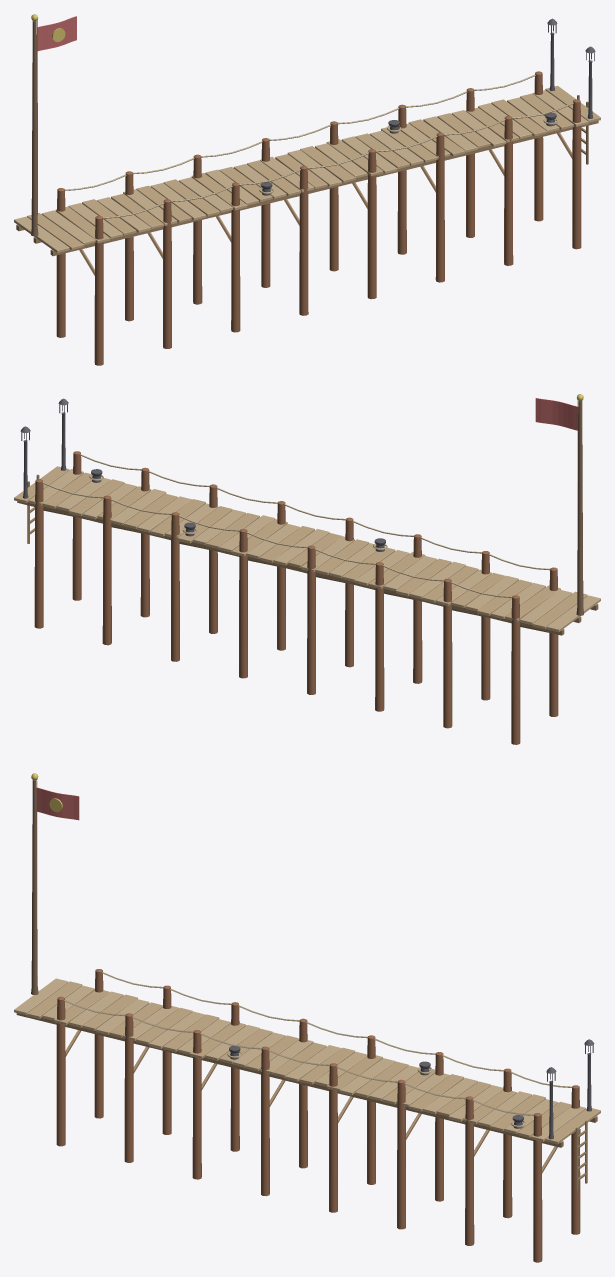
File: pier.glb
3 renders of one model, top to bottom at view 1: azimuth 30°, elevation 25°; view 2: azimuth 150°, elevation 25°; view 3: azimuth 330°, elevation 25°, orthographic.
Visible parts, largest first — view 1: pier, flagpole; view 2: pier, flagpole; view 3: pier, flagpole.
Boxes of the visible parts, <box> form: pier: <box>14,18,600,365</box>; flagpole: <box>31,14,76,236</box>; pier: <box>14,398,600,744</box>; flagpole: <box>535,394,583,615</box>; pier: <box>14,969,600,1262</box>; flagpole: <box>31,773,79,994</box>.
Bounding box in the file's own units: 24.29 × 14.56 × 3.42.
